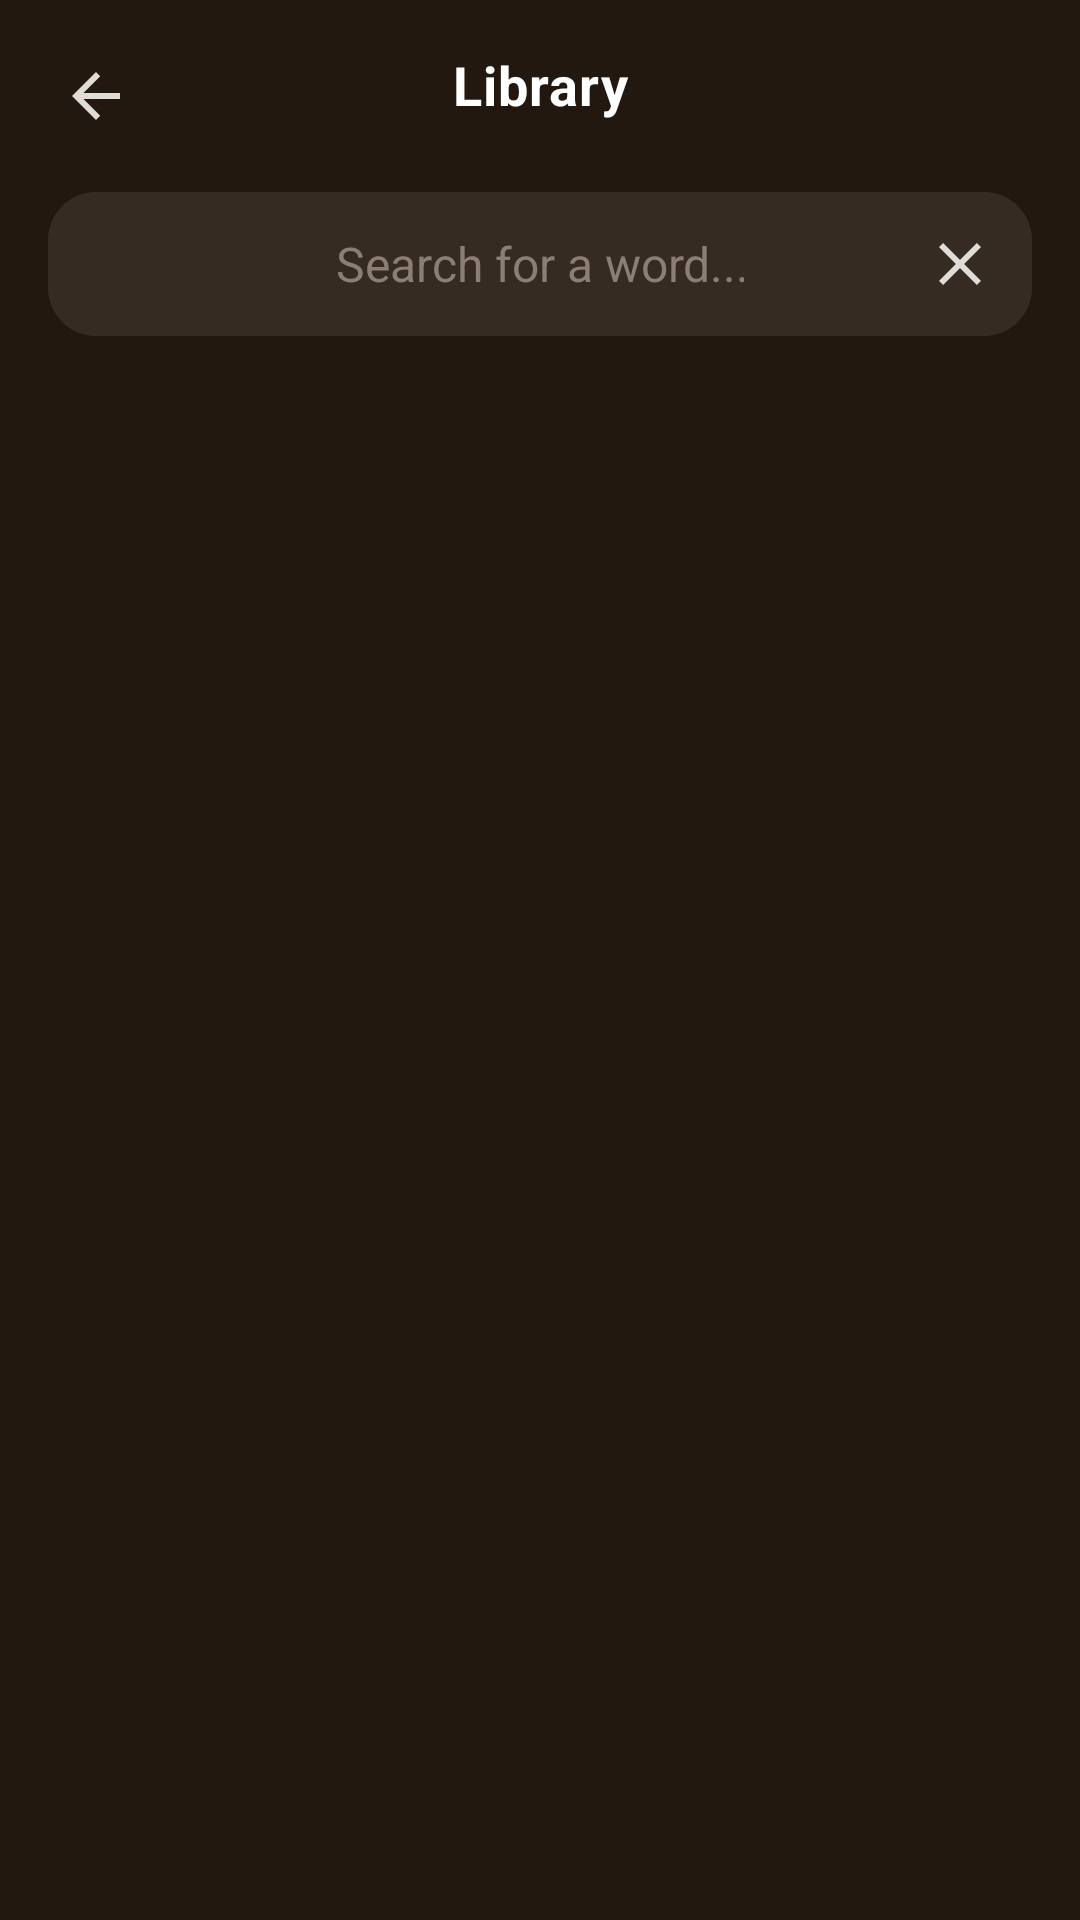

Point at icon controls on the screen. Image size 1080 × 1920, points as (x=x, y=y).
Cancel: (x=960, y=264)
Navigate back: (x=96, y=96)
